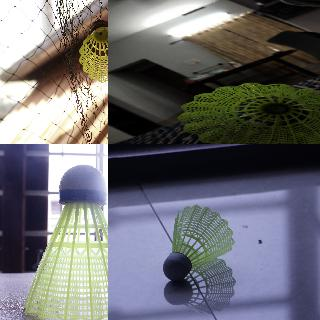shuttlecock: (23, 164, 107, 319), (177, 82, 319, 144), (162, 204, 234, 280), (78, 19, 107, 83)
